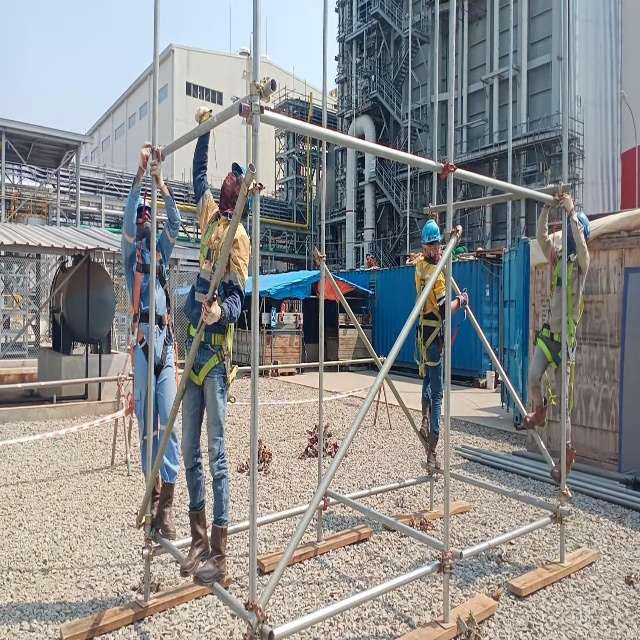Arnes_seguridad: (184, 211, 240, 396), (531, 251, 586, 417), (130, 245, 180, 392), (413, 254, 445, 387)
